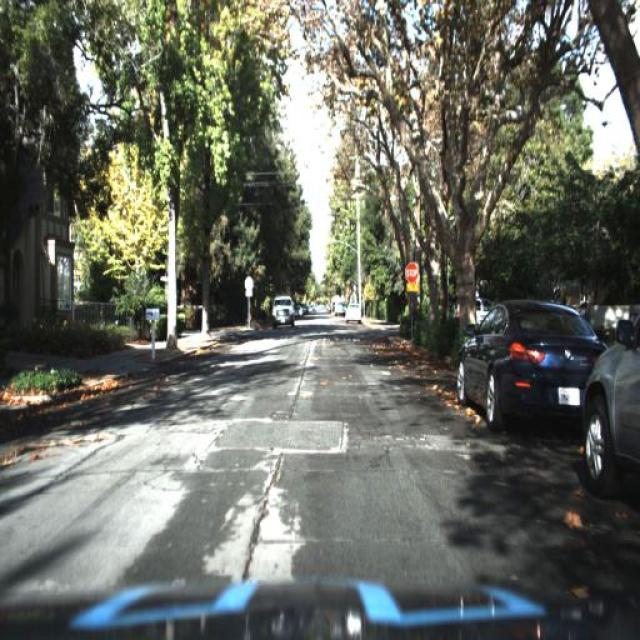car: (455, 297, 610, 434), (584, 306, 640, 508), (268, 290, 298, 331), (342, 300, 367, 328), (339, 302, 360, 328)
